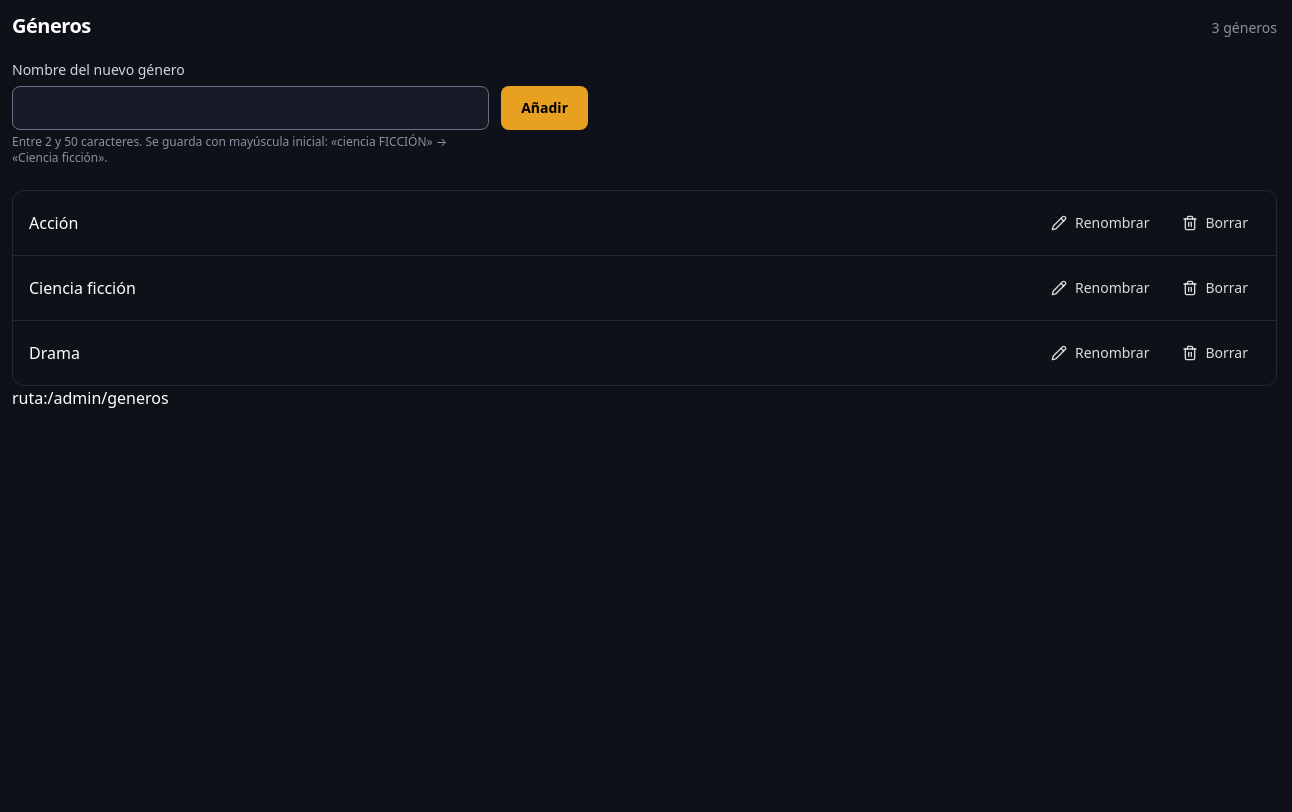
Scenario: AdminGenresPage: renombrar en línea › «Renombrar X» abre un campo con el nombre seleccionado; al guardar actualiza la lista y devuelve el foco
Expected: the list named "Géneros" is shown, [12,190,1277,386]
Click the button with aria-label "Renombrar Drama": [1100, 353] box [1039,331,1162,375]
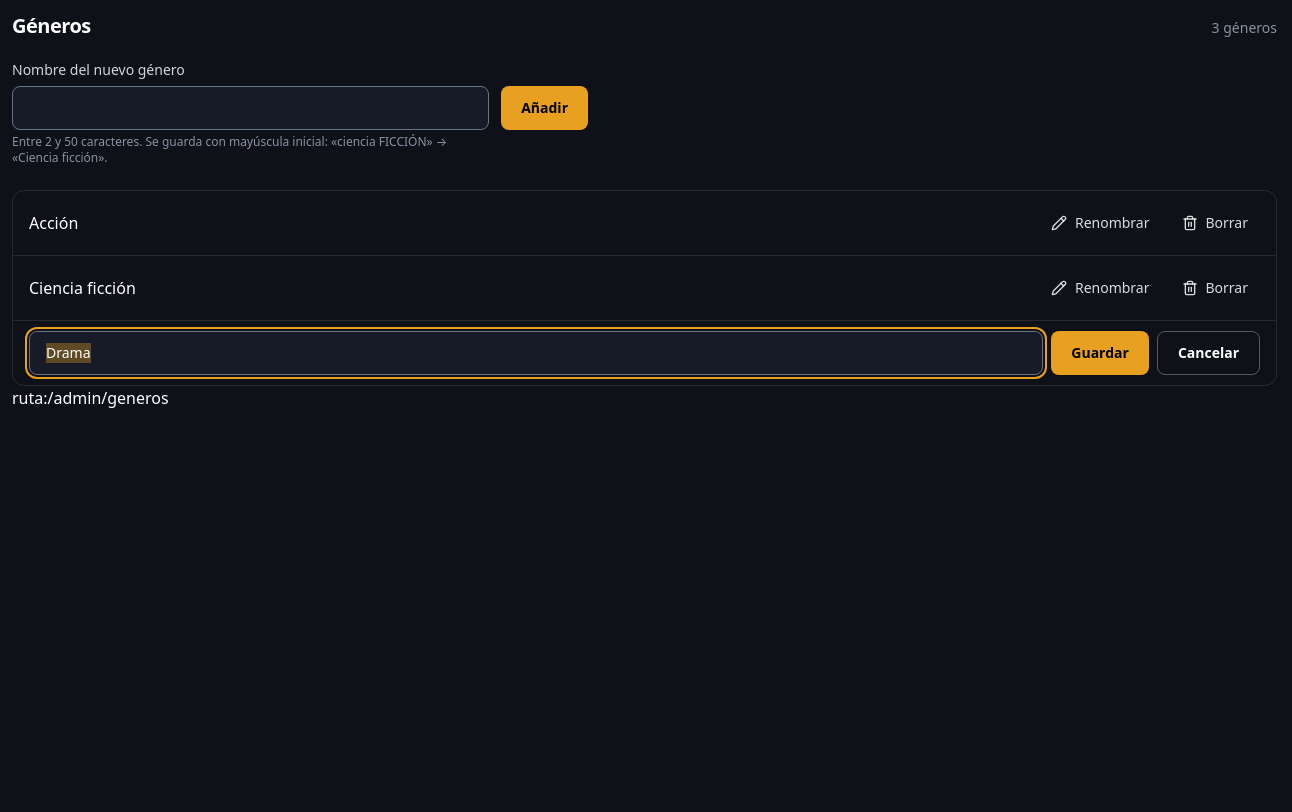
Now the field named "Nuevo nombre para Drama" holds "Drama", box [29,331,1043,375]
Type keys "melodrama"
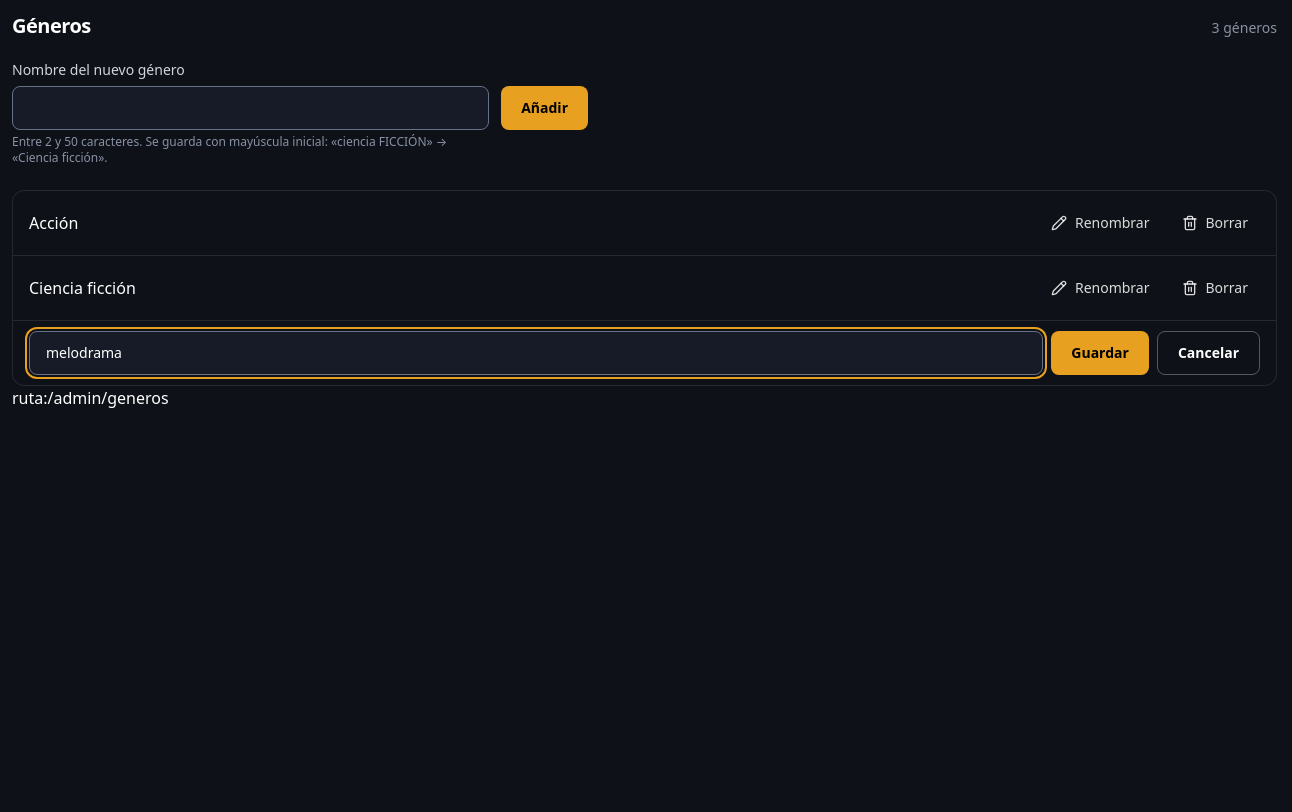
Click the button "Guardar": [1100, 353] box [1051,331,1149,375]
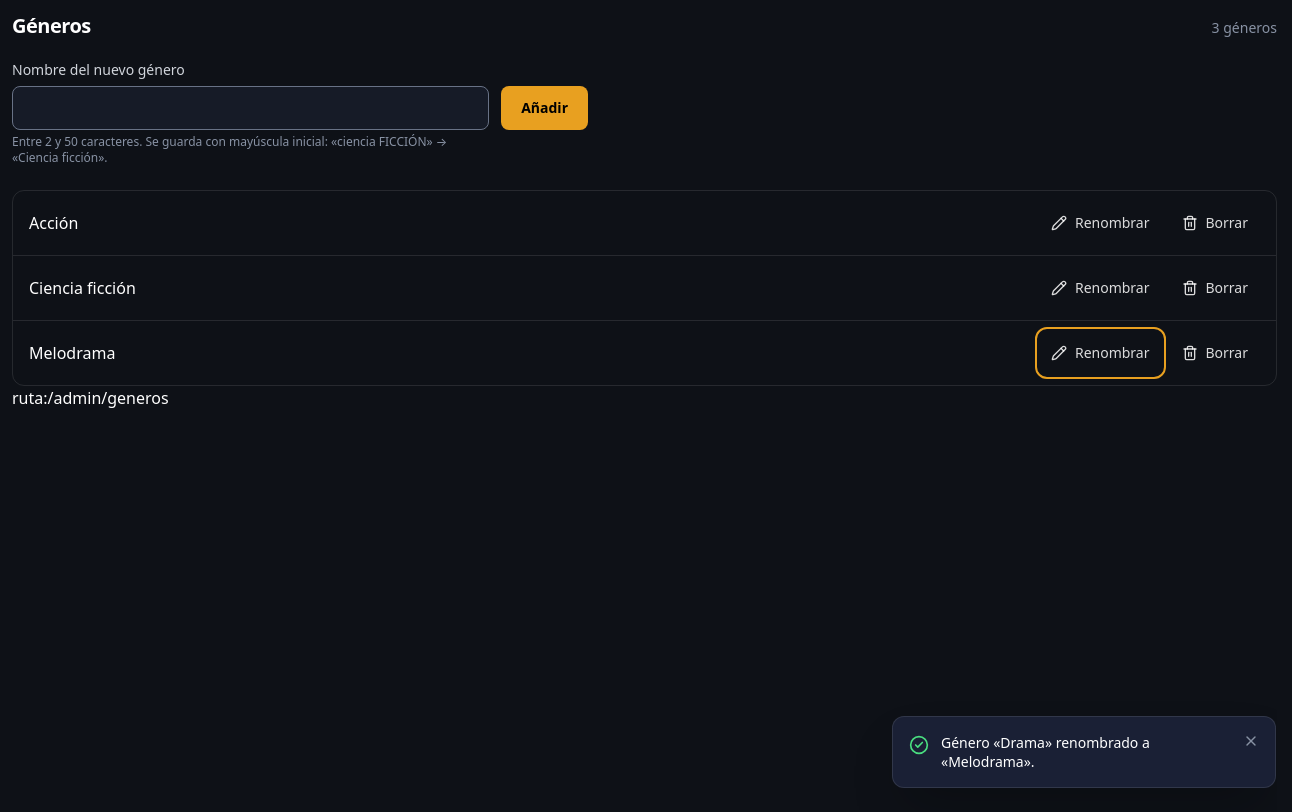
Expected: the field labelled "Nuevo nombre" is not shown
Now the text "Género «Drama» renombrado a «Melodrama»." is shown, box [940,732,1150,771]
